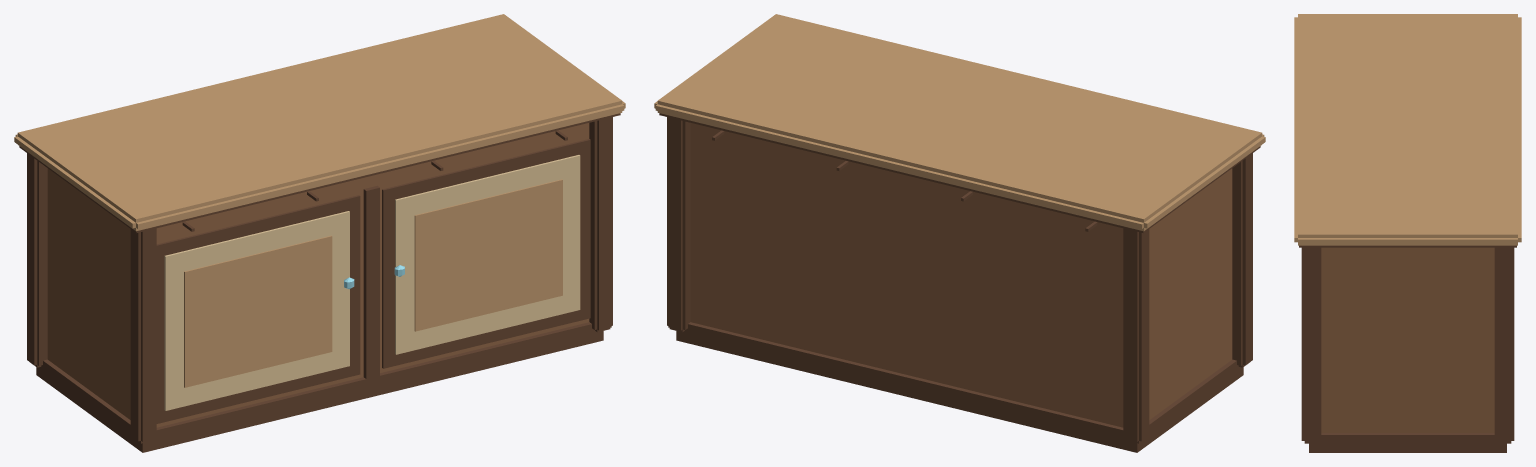
Rendered from deco_furn_workbench.obj.
3 views of the same model, side by side, from view 1: azimuth 30°, elevation 25°; view 2: azimuth 150°, elevation 25°; view 3: azimuth 270°, elevation 25° (orthographic). The views are drawn at different scales.
Visible parts, largest first — view 1: deco_furn_workbench; view 2: deco_furn_workbench; view 3: deco_furn_workbench.
Part boxes in pixels (bbox=[...]): deco_furn_workbench: bbox=[14, 14, 625, 452]; deco_furn_workbench: bbox=[654, 14, 1265, 452]; deco_furn_workbench: bbox=[1294, 14, 1521, 452].
Size of the model in its own units: 2.14 by 1 by 0.92.
1 material, 1 textured.
